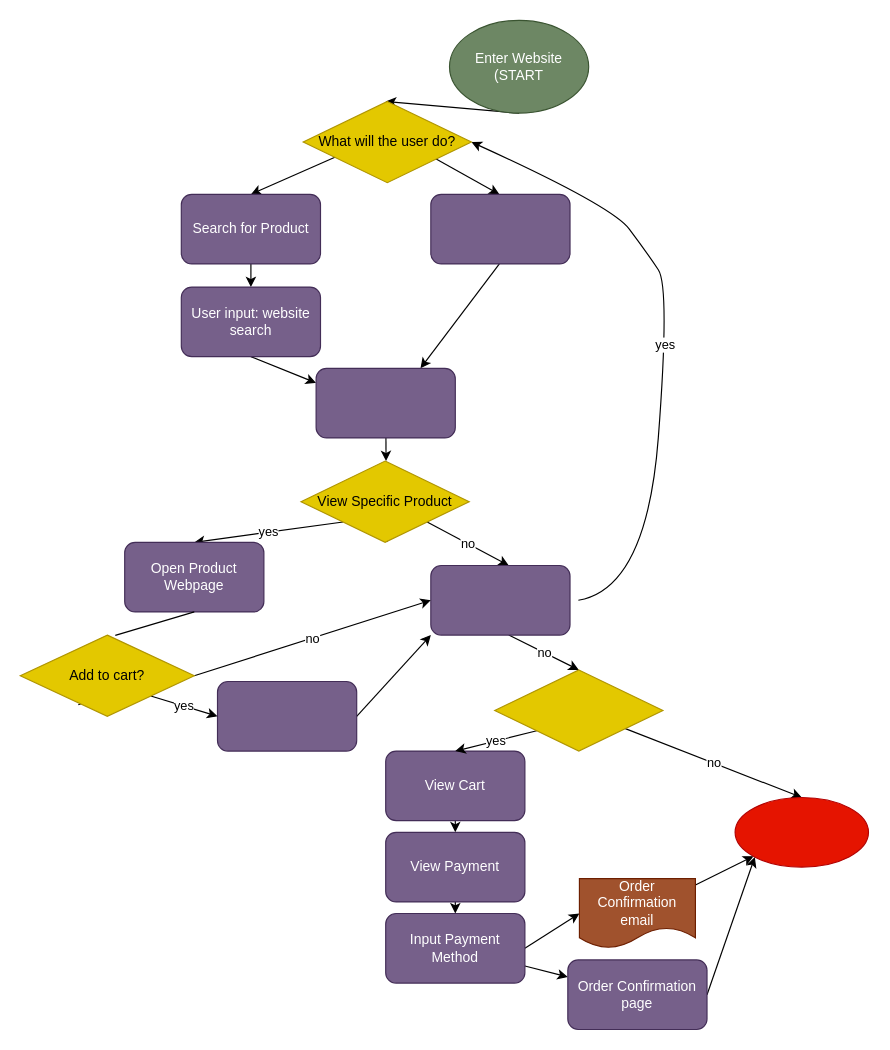
The diagram is 890 pixels wide and 1050 high, and some of its shapes have lost their labels. The shapes that lost their labels are listed below. From the top down, each one's box as (x1, y1, x2, y2) in pixels, then its label:
(430, 193, 570, 264): Explore Products on homepage
(315, 367, 455, 438): Look over Products
(430, 564, 570, 635): Continue shopping
(216, 680, 357, 751): Cart Add Confirmation
(494, 669, 663, 751): Checkout
(734, 796, 868, 867): Leave
